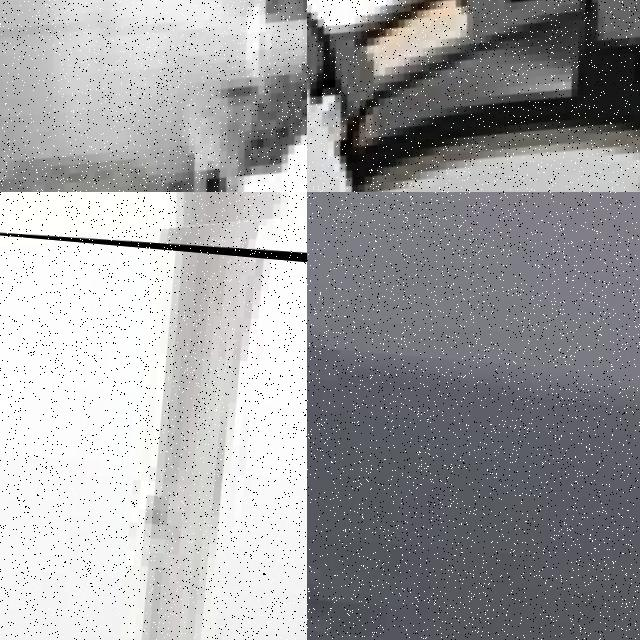drone: (307, 0, 640, 192), (0, 0, 307, 192), (0, 192, 307, 282)
